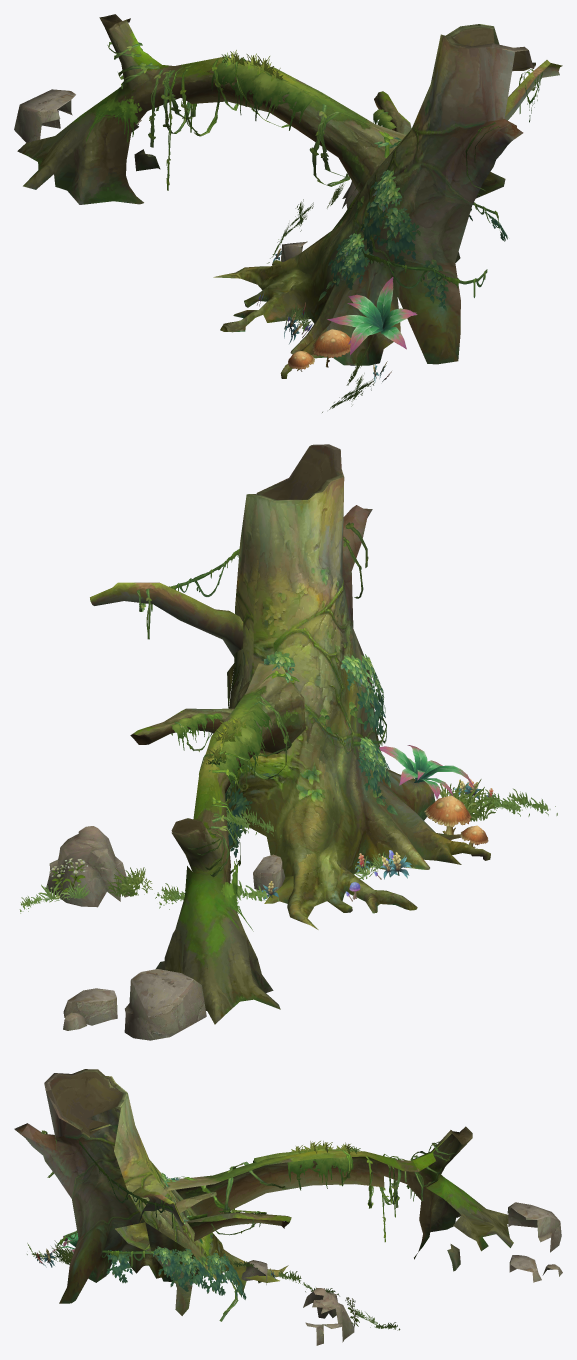
The model's file is kushu_08.FBX.
3 views of the same model, one above another, from view 1: azimuth 30°, elevation 25°; view 2: azimuth 150°, elevation 25°; view 3: azimuth 270°, elevation 25° (orthographic). The views are drawn at different scales.
Visible parts, largest first — view 1: kushu_08; view 2: kushu_08; view 3: kushu_08.
Boxes of the visible parts, x1,y1,x2,y2 form: kushu_08: (14,14,562,412); kushu_08: (19,444,557,1040); kushu_08: (14,1069,562,1345).
Size of the model in its own units: 5.58 by 4.73 by 9.43.
